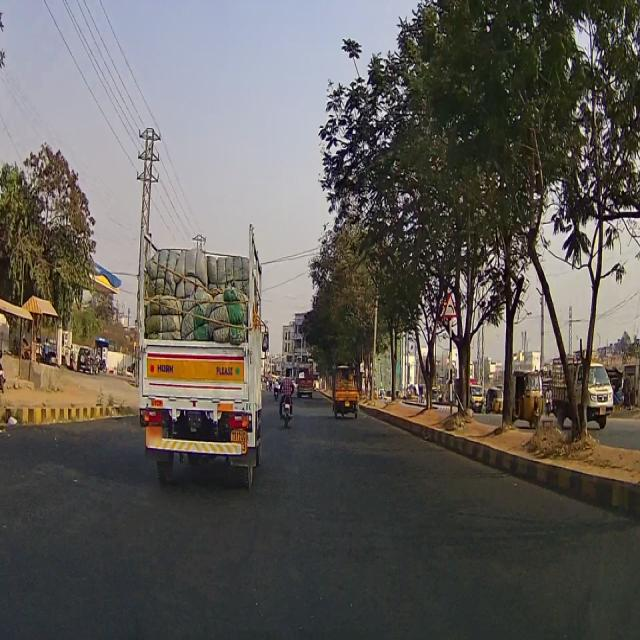left-hand-curve: (437, 283, 461, 323)
